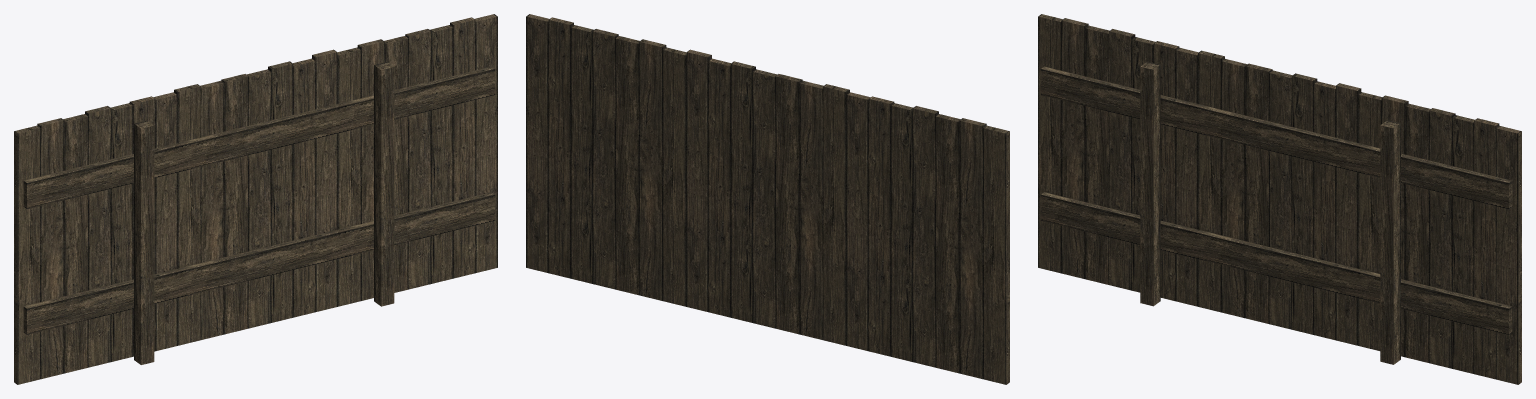
Rendered from fence_a_1.glb.
3 renders of one model, left to right at view 1: azimuth 30°, elevation 25°; view 2: azimuth 150°, elevation 25°; view 3: azimuth 330°, elevation 25°, orthographic.
Visible parts, largest first — view 1: fence_a_1; view 2: fence_a_1; view 3: fence_a_1.
Part boxes in pixels (<box>): fence_a_1: <box>14,14,497,384</box>; fence_a_1: <box>526,14,1009,384</box>; fence_a_1: <box>1038,14,1521,384</box>.
Size of the model in its own units: 4 by 2.03 by 0.2033.
Materials: 1 (1 with a texture image).
